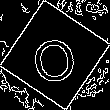O_N: (29, 26, 81, 84)
